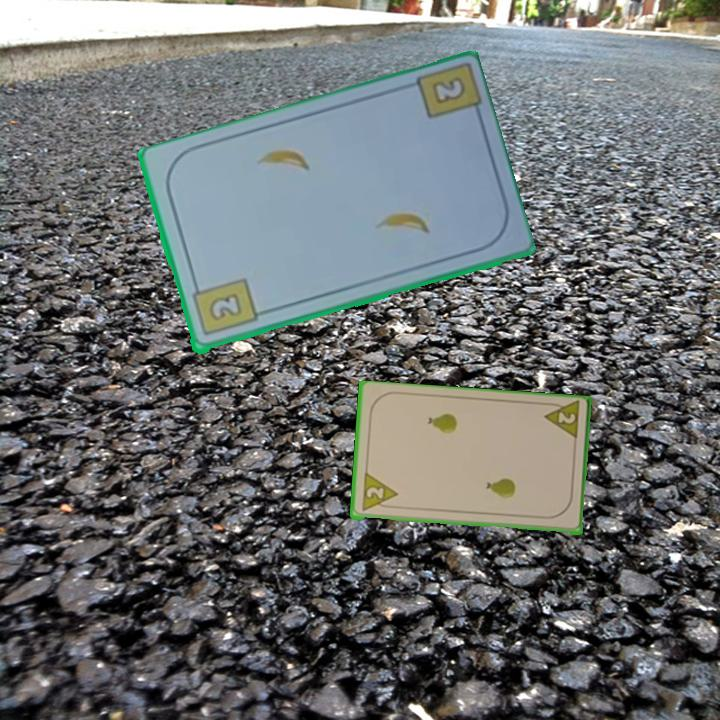2b: (188, 275, 260, 340), (427, 73, 469, 108)
2p: (358, 471, 400, 514), (554, 409, 578, 427)
